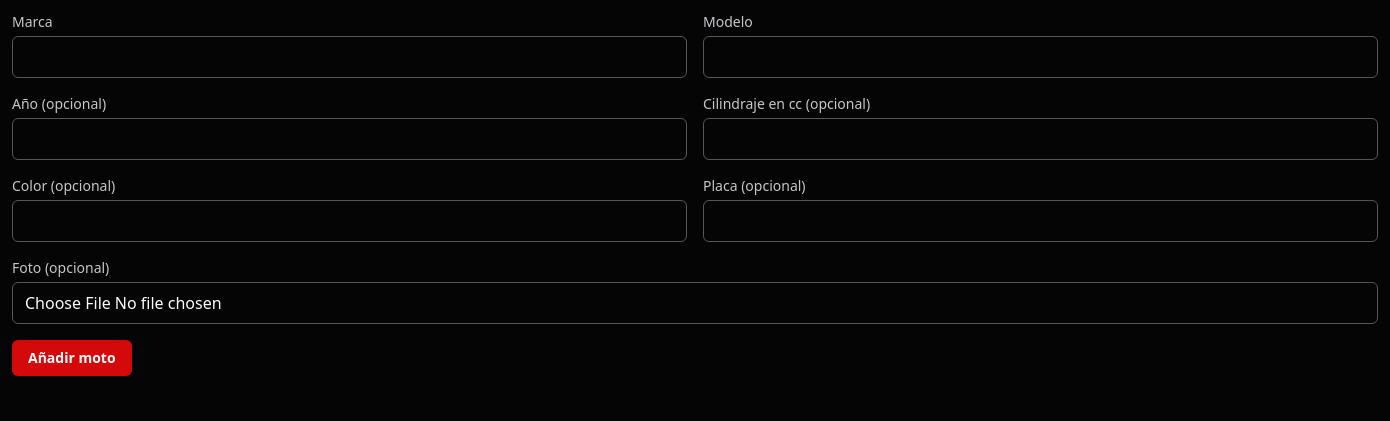
MotorcycleForm › exige marca y modelo
Click the button "Añadir moto": (72, 358) [12,340,132,376]
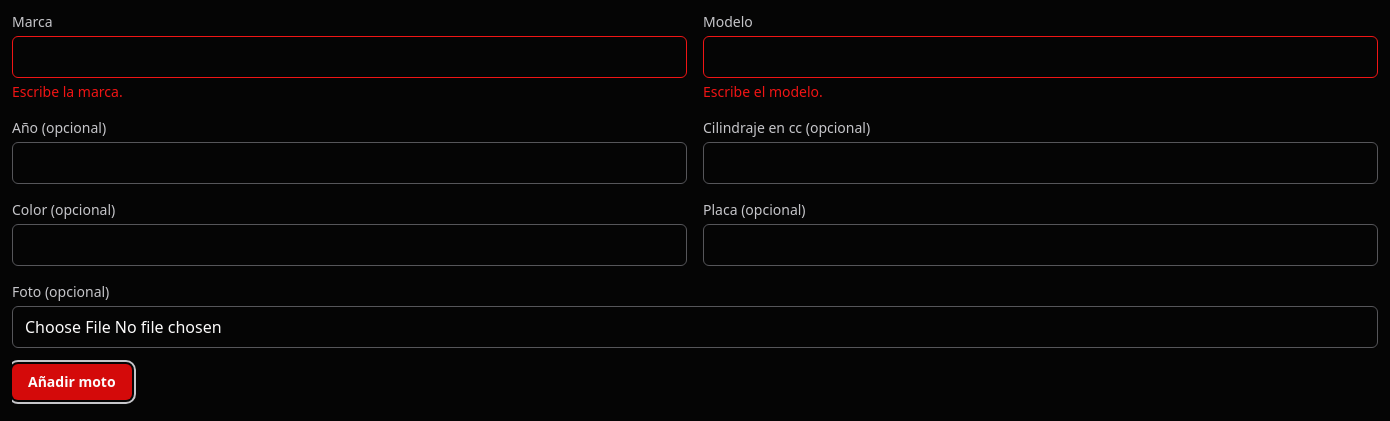
expect the text "Escribe la marca." is shown: met, box [12,82,123,101]
expect the text "Escribe el modelo." is shown: met, box [703,82,823,101]
